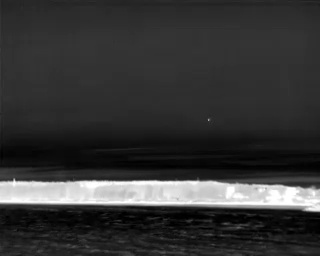HELICOPTER: (205, 116, 213, 125)
